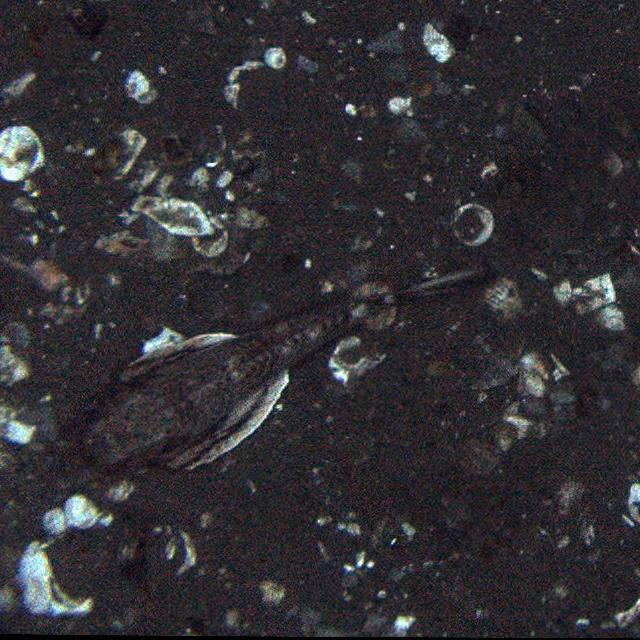roundfish: (67, 266, 506, 479)
